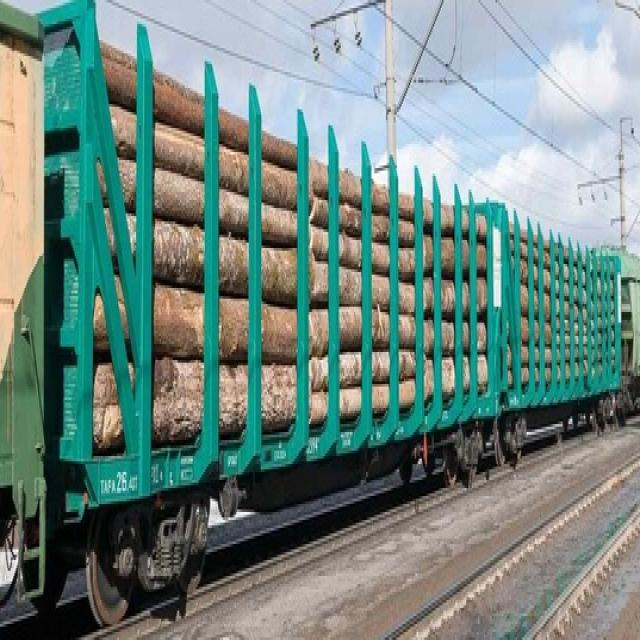cargo: (96, 34, 488, 453), (510, 217, 614, 371)
flatcar_bulkhead: (46, 0, 500, 605), (498, 191, 622, 471)
